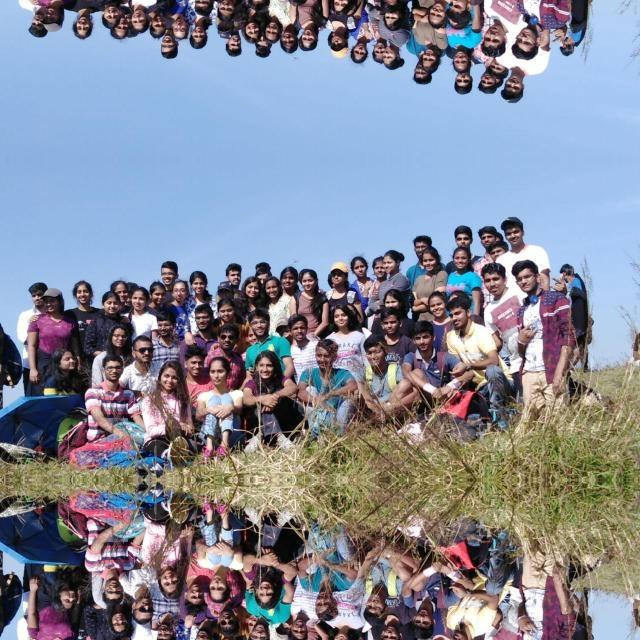person: (507, 261, 583, 421), (507, 539, 583, 640), (243, 344, 303, 458), (243, 502, 303, 616), (302, 339, 361, 435), (302, 525, 361, 621), (195, 359, 248, 463), (195, 497, 248, 601), (448, 299, 500, 396), (356, 334, 406, 434), (356, 526, 406, 626), (86, 350, 136, 448), (86, 512, 136, 610), (402, 326, 460, 410), (402, 550, 460, 634), (147, 357, 193, 461), (147, 499, 193, 603), (28, 287, 76, 383), (480, 260, 524, 364), (507, 0, 583, 59), (448, 563, 500, 640), (325, 301, 373, 383), (494, 209, 556, 263), (494, 57, 556, 111), (28, 577, 76, 640), (325, 577, 373, 640), (480, 0, 524, 60), (480, 595, 524, 640), (403, 248, 441, 300), (403, 20, 441, 72), (376, 242, 410, 298), (376, 22, 410, 78), (445, 246, 481, 294), (445, 26, 481, 74), (71, 276, 95, 346), (28, 0, 76, 33), (378, 308, 409, 358), (131, 280, 155, 344), (262, 271, 288, 327), (239, 272, 267, 322), (98, 288, 126, 338), (239, 0, 267, 48), (261, 0, 288, 49), (188, 268, 216, 314), (188, 6, 216, 52), (378, 602, 409, 640), (448, 0, 500, 20), (71, 0, 95, 43), (131, 0, 155, 39), (168, 281, 190, 323), (325, 0, 373, 19), (98, 0, 126, 32), (168, 0, 189, 39), (71, 614, 95, 640), (131, 616, 155, 640), (98, 622, 126, 640), (378, 0, 409, 11), (261, 633, 288, 640), (168, 637, 189, 640), (239, 638, 267, 640)
